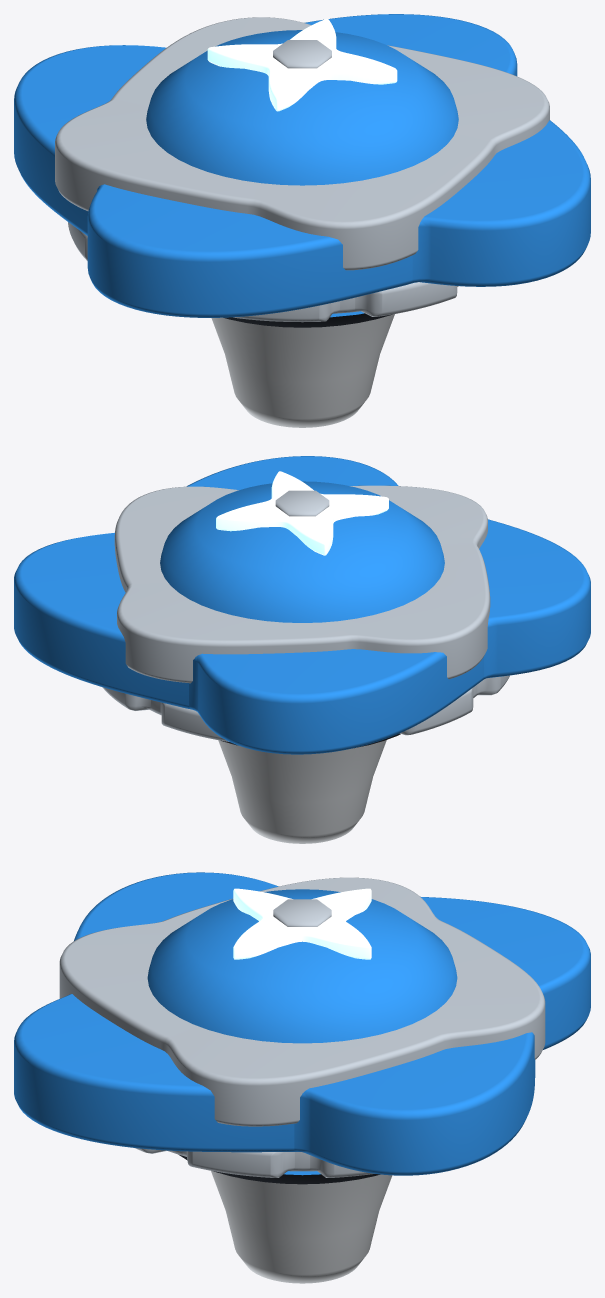
File: top_1.glb
3 renders of one model, top to bottom at view 1: azimuth 30°, elevation 25°; view 2: azimuth 150°, elevation 25°; view 3: azimuth 270°, elevation 25°, orthographic. The views are drawn at different scales.
Parts seen in each view (by area): view 1: Tidal Ring, Tidal Blades, Tidal Cap, Tidal Tip, Tidal Emblem, Tidal Disc, Tidal Bolt, Tidal Driver; view 2: Tidal Ring, Tidal Blades, Tidal Cap, Tidal Tip, Tidal Emblem, Tidal Disc, Tidal Bolt; view 3: Tidal Ring, Tidal Blades, Tidal Cap, Tidal Tip, Tidal Emblem, Tidal Disc, Tidal Bolt, Tidal Driver.
Part boxes in pixels (x1=…): Tidal Ring: x1=14, y1=14, x2=590, y2=317; Tidal Blades: x1=55, y1=17, x2=549, y2=270; Tidal Cap: x1=146, y1=30, x2=458, y2=185; Tidal Tip: x1=211, y1=314, x2=394, y2=427; Tidal Emblem: x1=207, y1=19, x2=397, y2=111; Tidal Disc: x1=68, y1=222, x2=458, y2=322; Tidal Bolt: x1=273, y1=40, x2=331, y2=68; Tidal Driver: x1=223, y1=313, x2=392, y2=327; Tidal Ring: x1=14, y1=456, x2=590, y2=754; Tidal Blades: x1=114, y1=485, x2=490, y2=683; Tidal Cap: x1=160, y1=481, x2=444, y2=622; Tidal Tip: x1=218, y1=740, x2=386, y2=843; Tidal Emblem: x1=216, y1=471, x2=388, y2=555; Tidal Disc: x1=102, y1=675, x2=509, y2=741; Tidal Bolt: x1=275, y1=490, x2=329, y2=516; Tidal Ring: x1=14, y1=872, x2=590, y2=1175; Tidal Blades: x1=59, y1=877, x2=545, y2=1126; Tidal Cap: x1=147, y1=889, x2=457, y2=1043; Tidal Tip: x1=211, y1=1171, x2=392, y2=1283; Tidal Emblem: x1=233, y1=888, x2=371, y2=959; Tidal Disc: x1=135, y1=1148, x2=374, y2=1177; Tidal Bolt: x1=273, y1=899, x2=331, y2=926; Tidal Driver: x1=178, y1=1154, x2=380, y2=1184.
Size of the model in its own units: 1.19 by 0.795 by 1.19.
